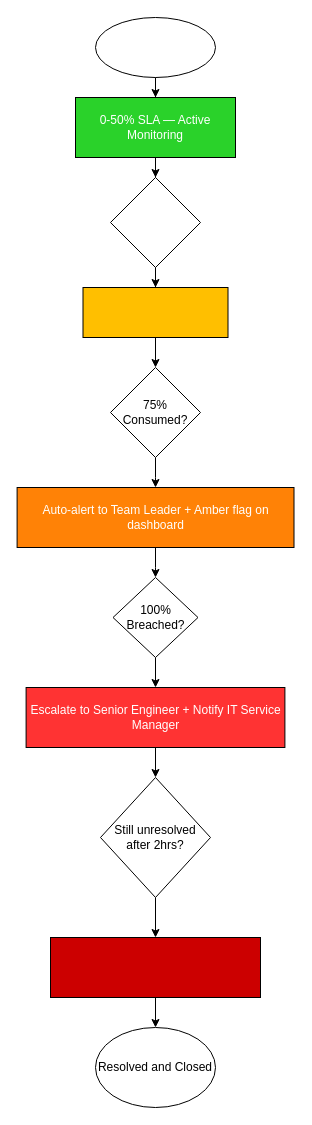
Image size: 312x1125. Some labels were removed from this diagram. The centre of each missing label's shape, as x and y in pixels:
"50% Consumed?" belongs at point 155,222.
"Auto-alert to Assignee" belongs at point 155,312.
"Executive escalation to CIO + Mandatory RCA" belongs at point 155,967.
"Incident Created" belongs at point 155,47.
